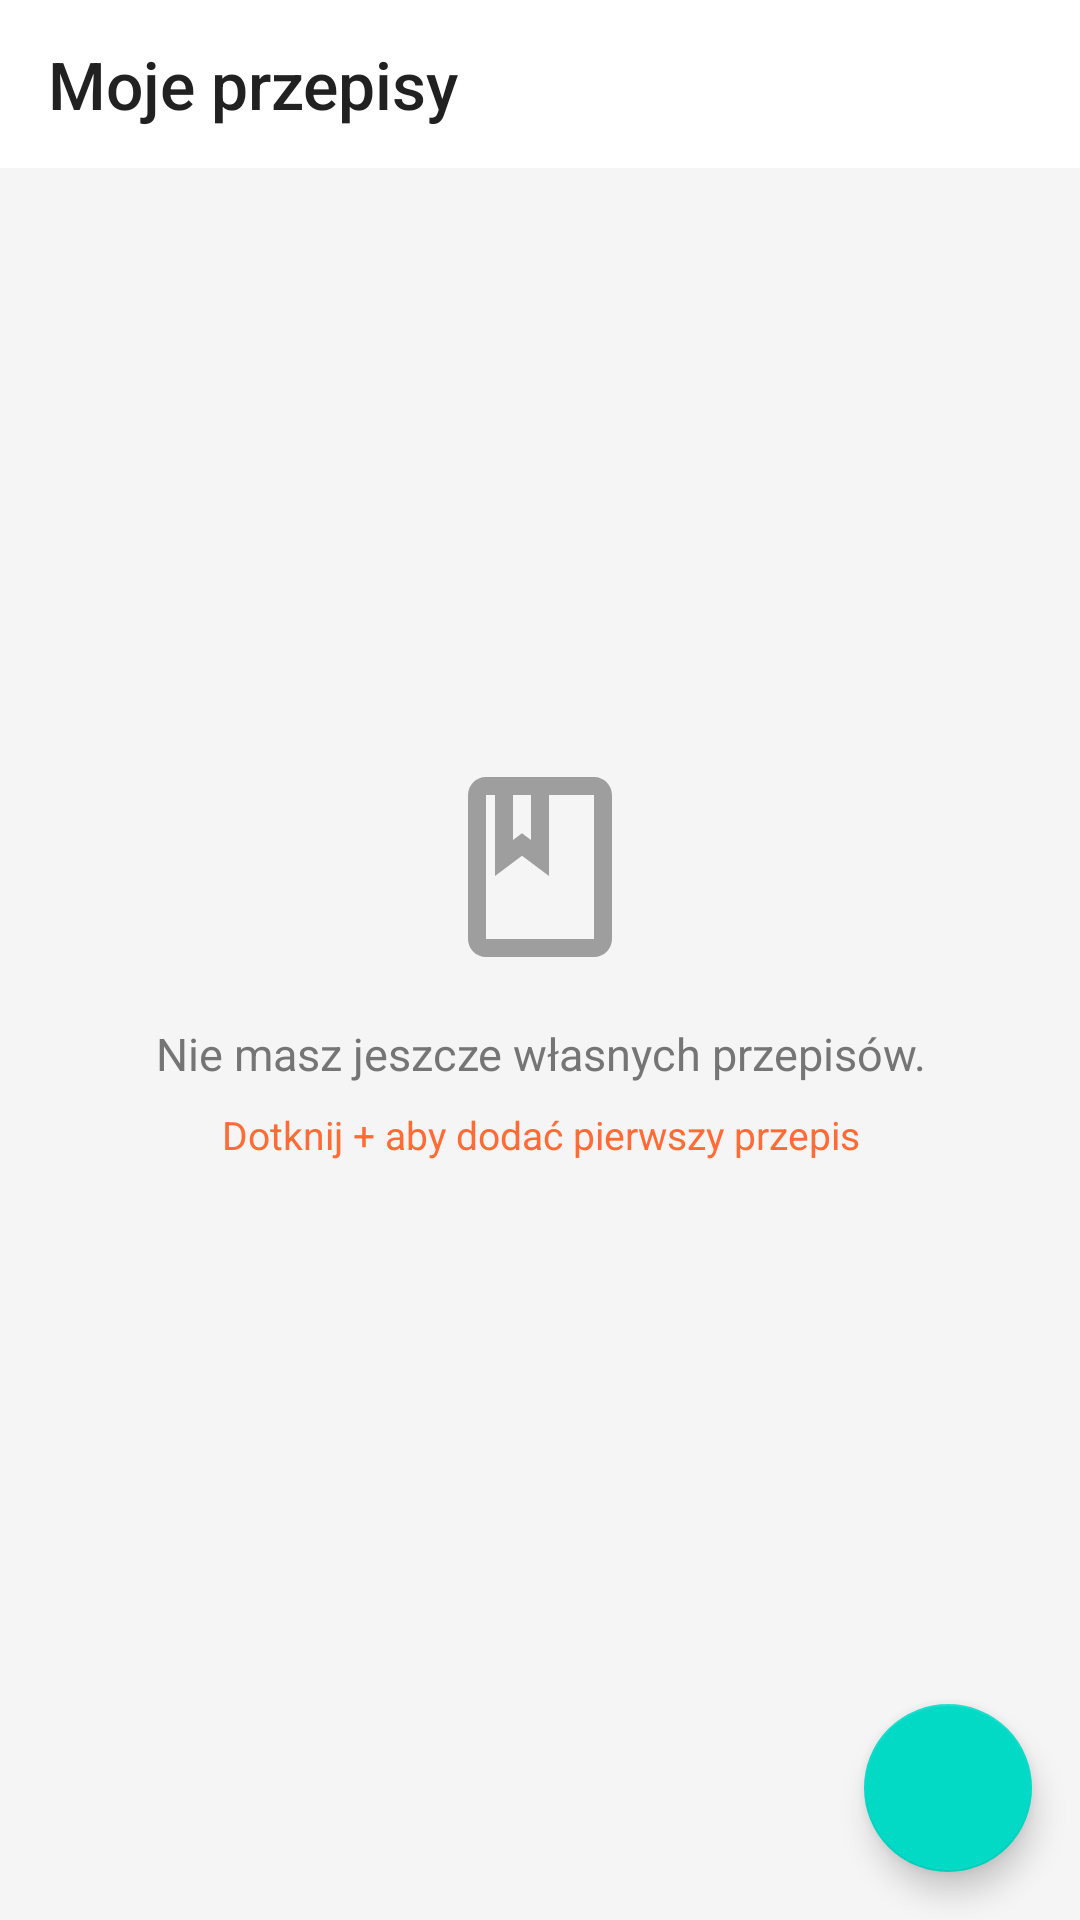

Icon click points for this 1080px x 1920px phone screenshot, format [x,y]:
recipes: [540,867]
